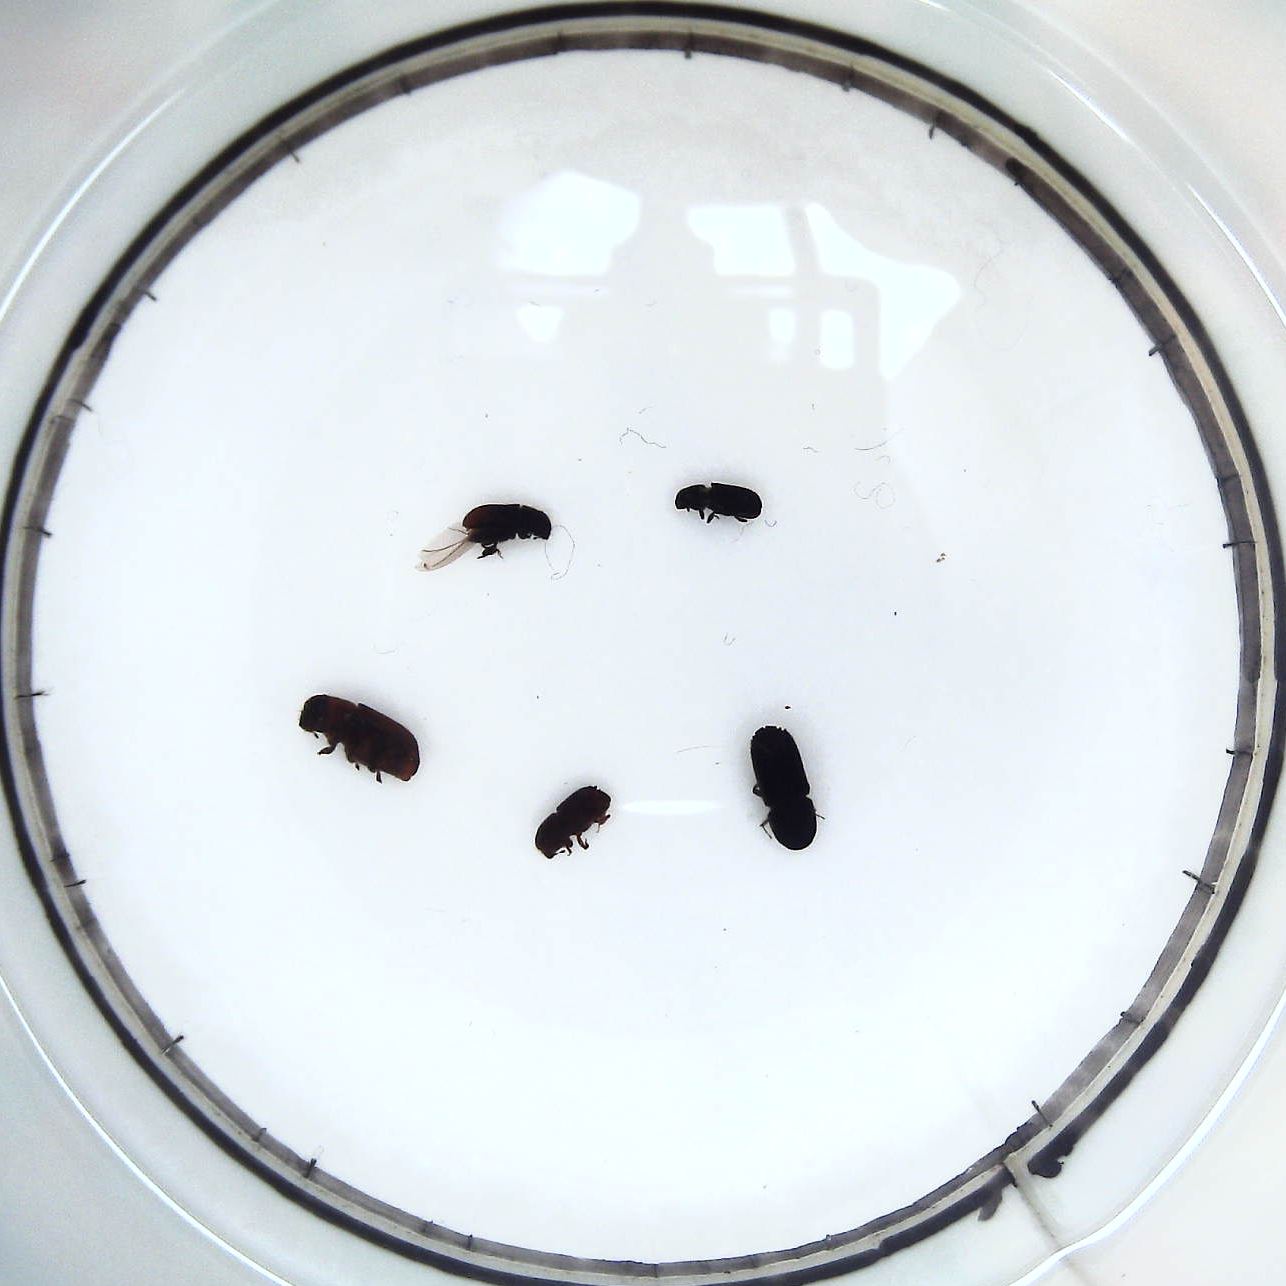Boerner: (741, 724, 827, 856)
Leconte: (292, 685, 427, 790)
armandi: (415, 501, 556, 571)
coleoptera: (670, 480, 768, 529)
linnaeus: (531, 783, 612, 859)
